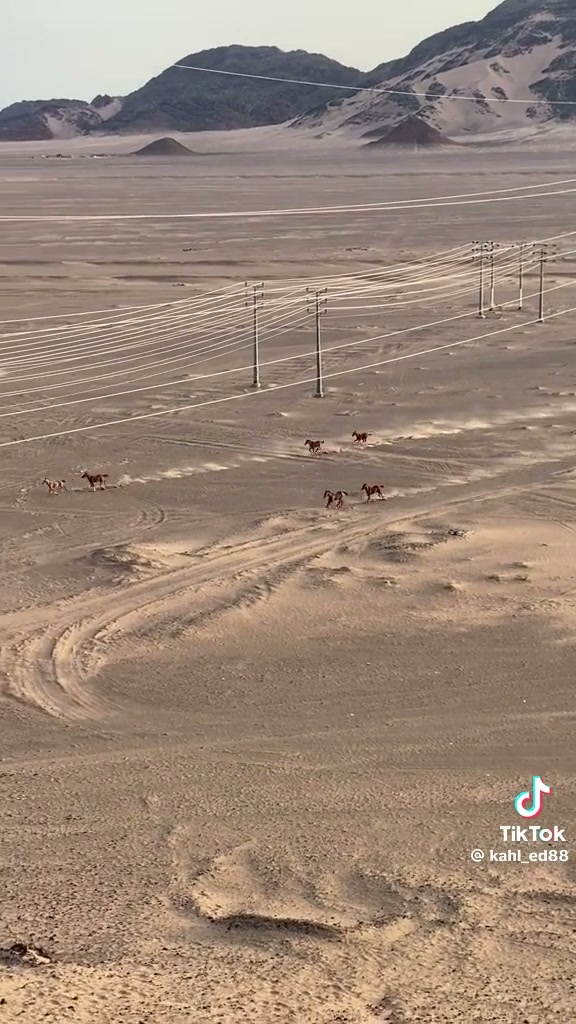animal: (82, 471, 107, 490), (361, 483, 385, 501), (323, 490, 347, 507), (42, 478, 65, 495), (304, 439, 323, 453), (352, 430, 371, 443)
vehicle_track: (0, 459, 574, 719)
